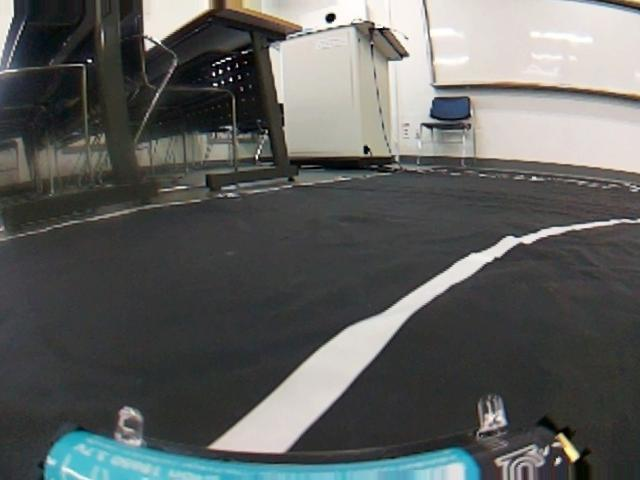right: (0, 203, 640, 480)
